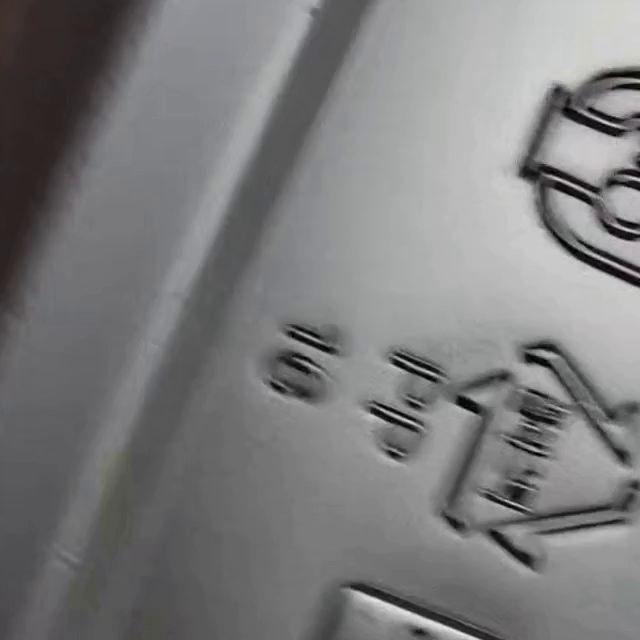Plastic: (439, 343, 638, 571)
